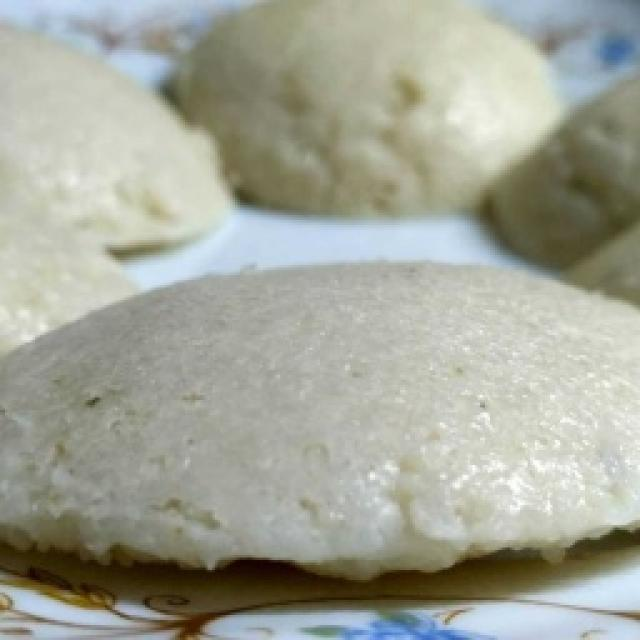idli: (0, 263, 639, 577), (0, 25, 229, 249), (493, 78, 639, 267), (0, 198, 137, 354), (565, 223, 639, 304)
